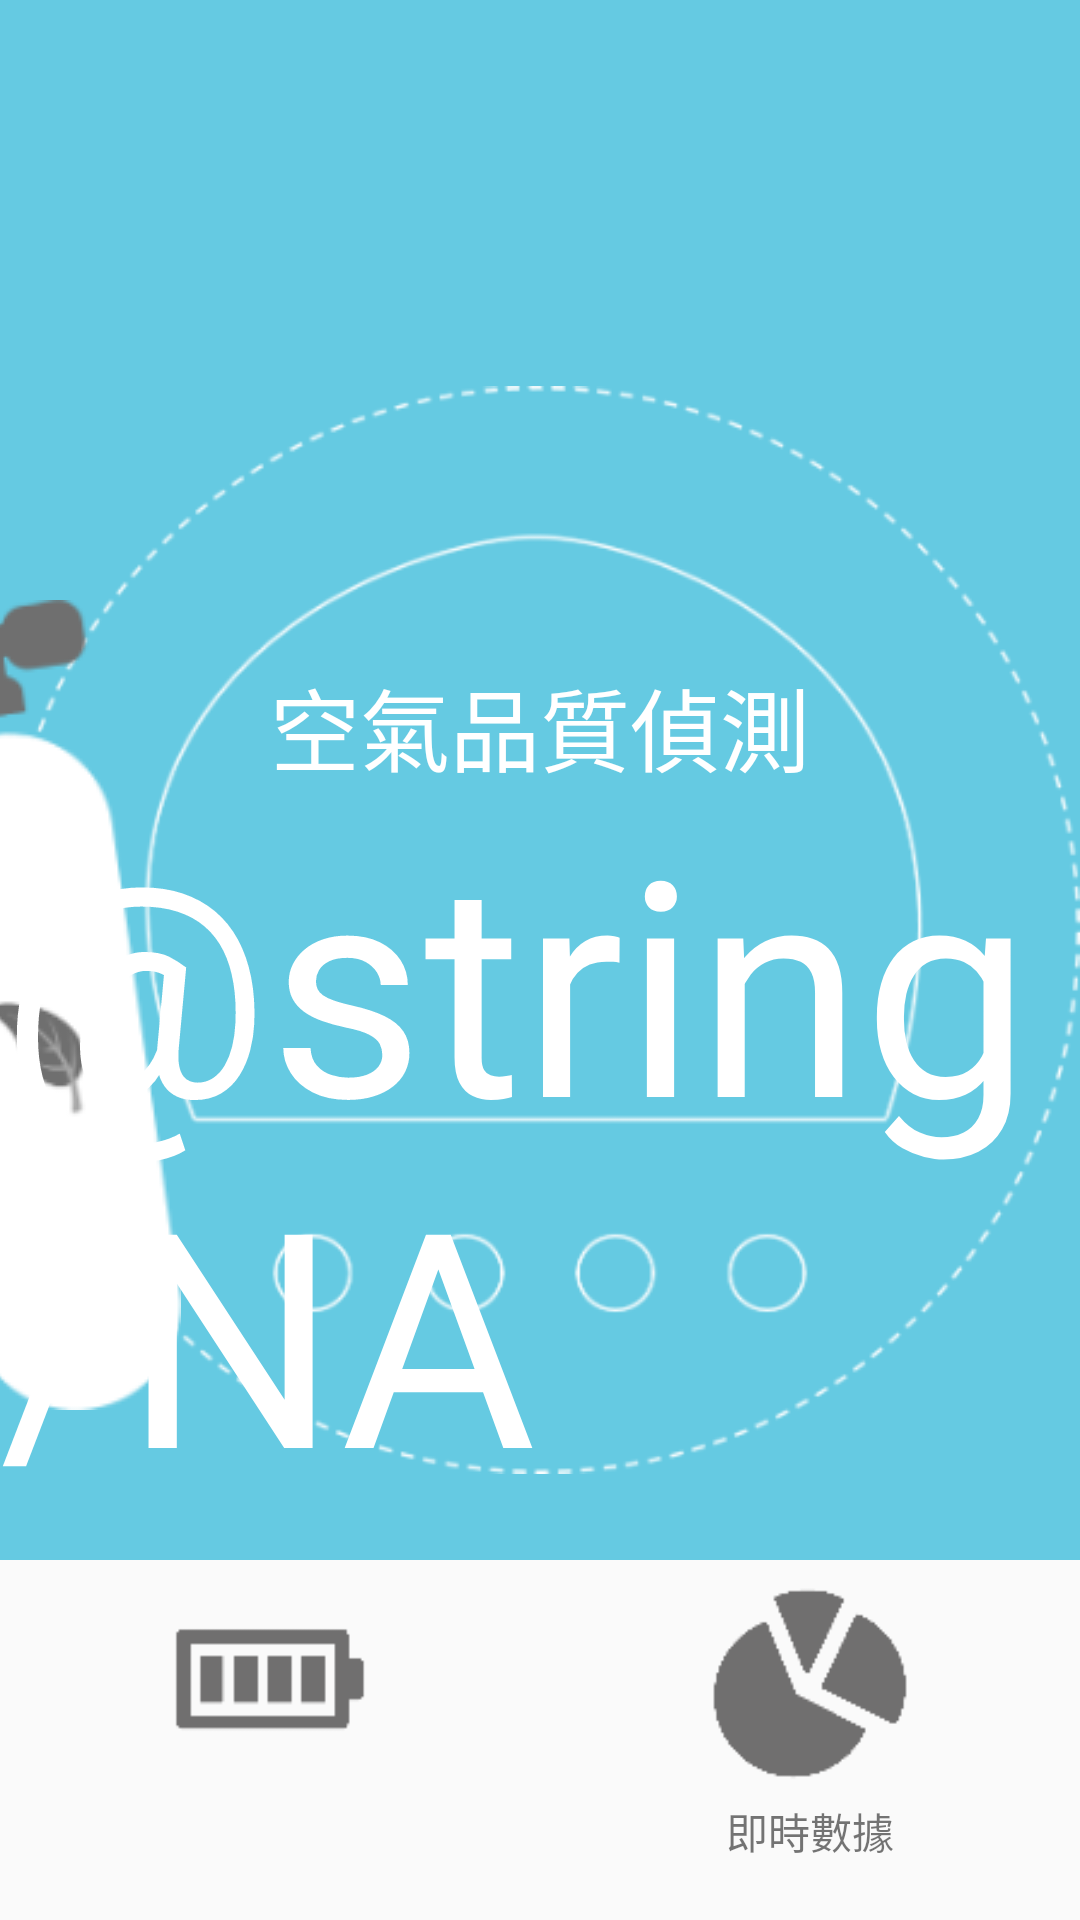

Point at icon controls on the screen. Image size 1080 × 1920, points as point (x, y).
battery: point (270, 1679)
chart: point (810, 1683)
